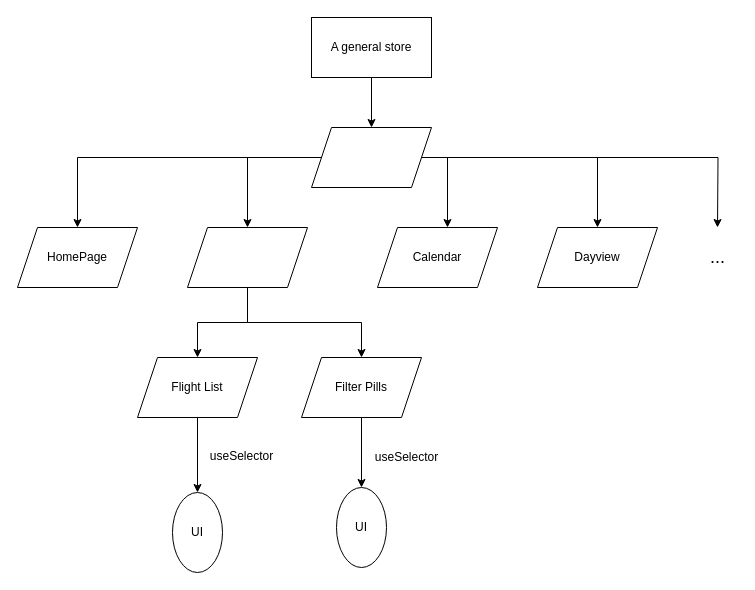
This 755x590 diagram has some shape labels left out. Each missing label, with the centre of its shape:
"App" belongs at point 371,157.
"Combined Explore" belongs at point 247,257.
